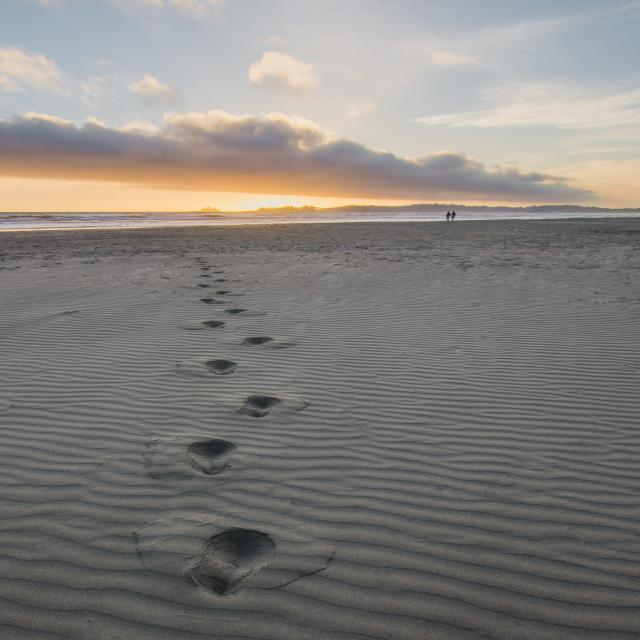human_foot_print: (172, 306, 373, 616)
